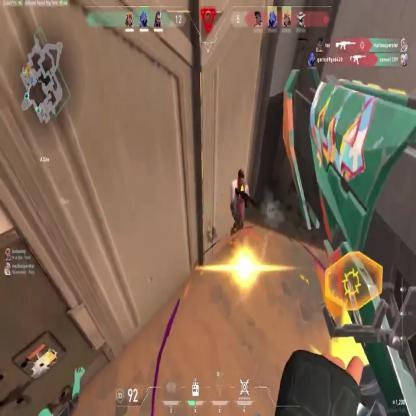enemy: (228, 166, 250, 249)
enemy_head: (237, 167, 246, 190)
